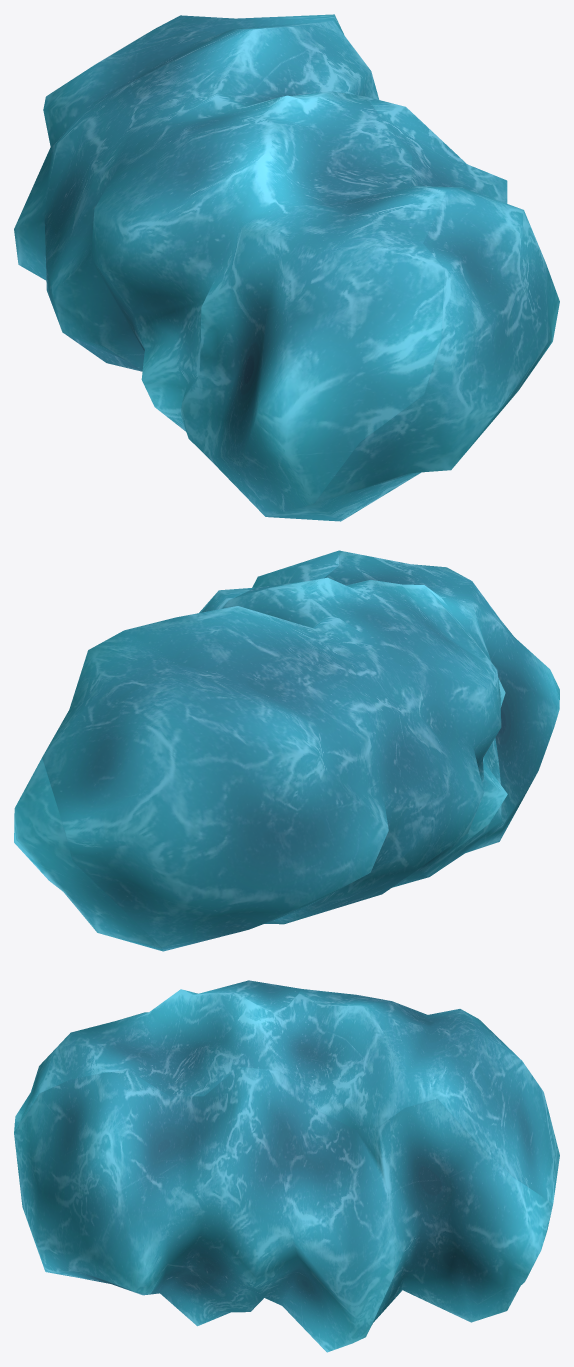
The model's file is BigIce.fbx.
3 renders of one model, top to bottom at view 1: azimuth 30°, elevation 25°; view 2: azimuth 150°, elevation 25°; view 3: azimuth 270°, elevation 25°, orthographic. The views are drawn at different scales.
Parts seen in each view (by area): view 1: defaultMaterial; view 2: defaultMaterial; view 3: defaultMaterial.
Part boxes in pixels (bbox=[...]): defaultMaterial: bbox=[14, 14, 559, 521]; defaultMaterial: bbox=[14, 550, 559, 951]; defaultMaterial: bbox=[14, 980, 559, 1352].
Size of the model in its own units: 159 by 129 by 204.
